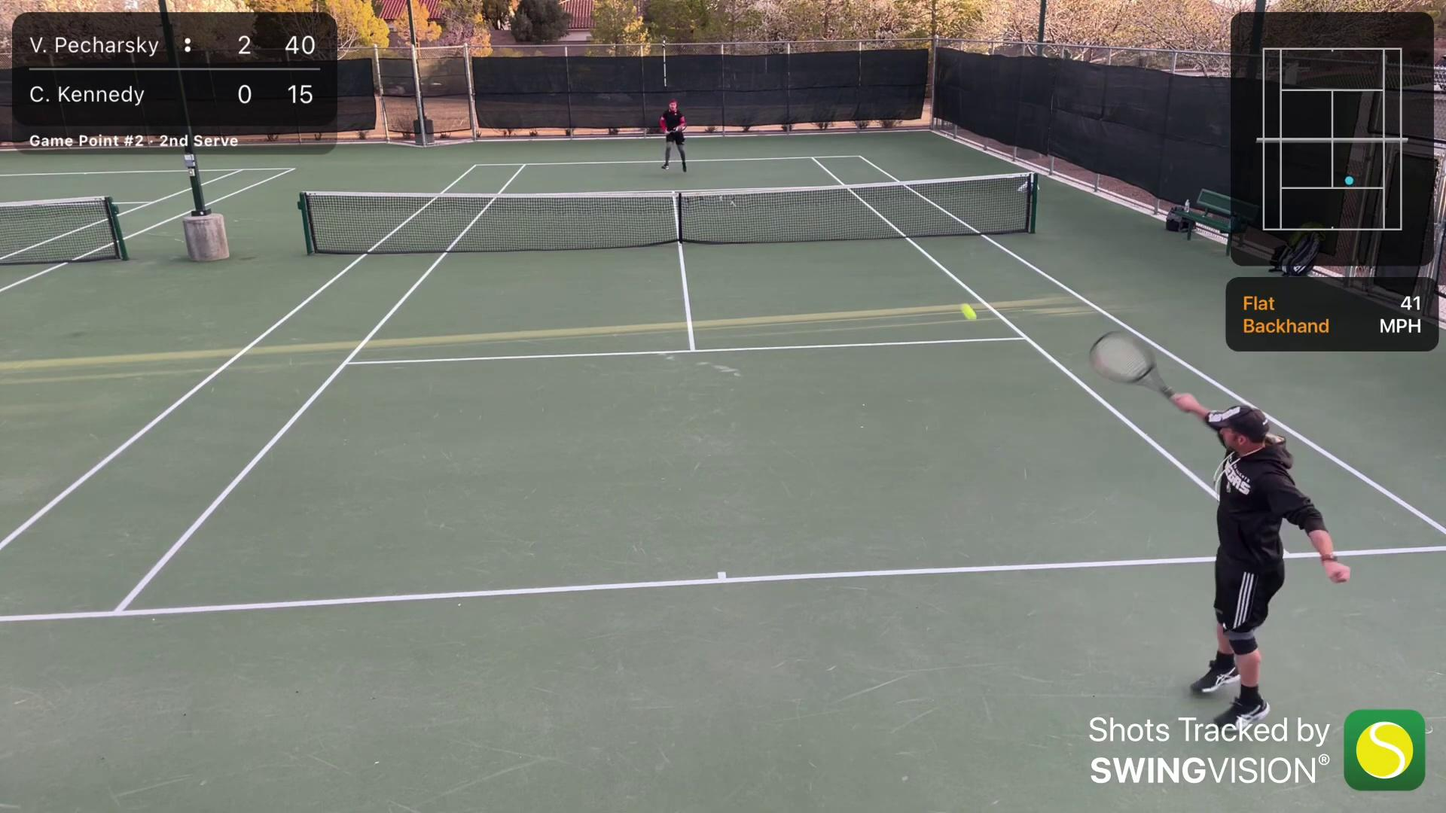ball: (958, 299, 981, 323)
